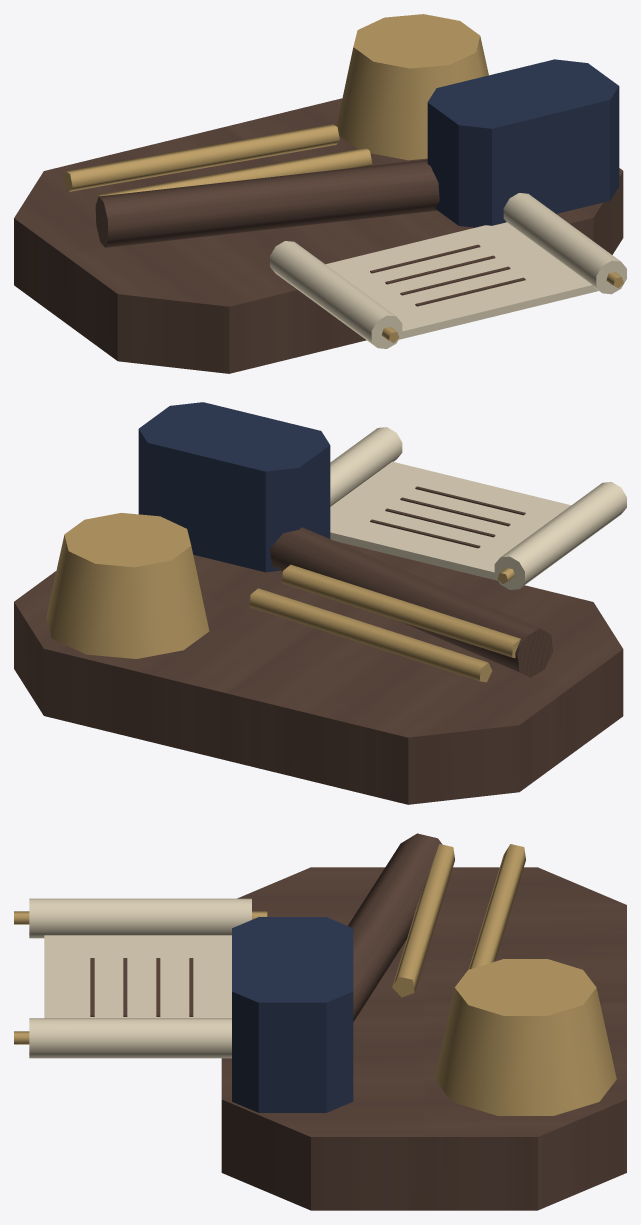
File: crafting-tools.glb
The picture shows the model from 3 angles, top to bottom: view 1: azimuth 30°, elevation 25°; view 2: azimuth 150°, elevation 25°; view 3: azimuth 270°, elevation 25°; orthographic projection. The views are drawn at different scales.
Parts seen in each view (by area): view 1: CraftingEquipment_wood, CraftingEquipment_dark, CraftingEquipment_paper, CraftingEquipment_gold; view 2: CraftingEquipment_wood, CraftingEquipment_gold, CraftingEquipment_dark, CraftingEquipment_paper; view 3: CraftingEquipment_wood, CraftingEquipment_paper, CraftingEquipment_gold, CraftingEquipment_dark.
Part boxes in pixels (<box>): CraftingEquipment_wood: <box>14,98,623,373</box>; CraftingEquipment_dark: <box>427,59,619,227</box>; CraftingEquipment_paper: <box>270,193,626,348</box>; CraftingEquipment_gold: <box>64,14,623,342</box>; CraftingEquipment_wood: <box>14,486,623,804</box>; CraftingEquipment_gold: <box>46,513,520,682</box>; CraftingEquipment_dark: <box>138,402,330,572</box>; CraftingEquipment_paper: <box>330,427,626,589</box>; CraftingEquipment_wood: <box>90,833,626,1210</box>; CraftingEquipment_paper: <box>29,898,251,1058</box>; CraftingEquipment_gold: <box>14,844,616,1115</box>; CraftingEquipment_dark: <box>232,917,353,1112</box>.
Bounding box in the file's own units: 0.63 × 0.21 × 0.605.
Materials: 4 (1 with a texture image).
